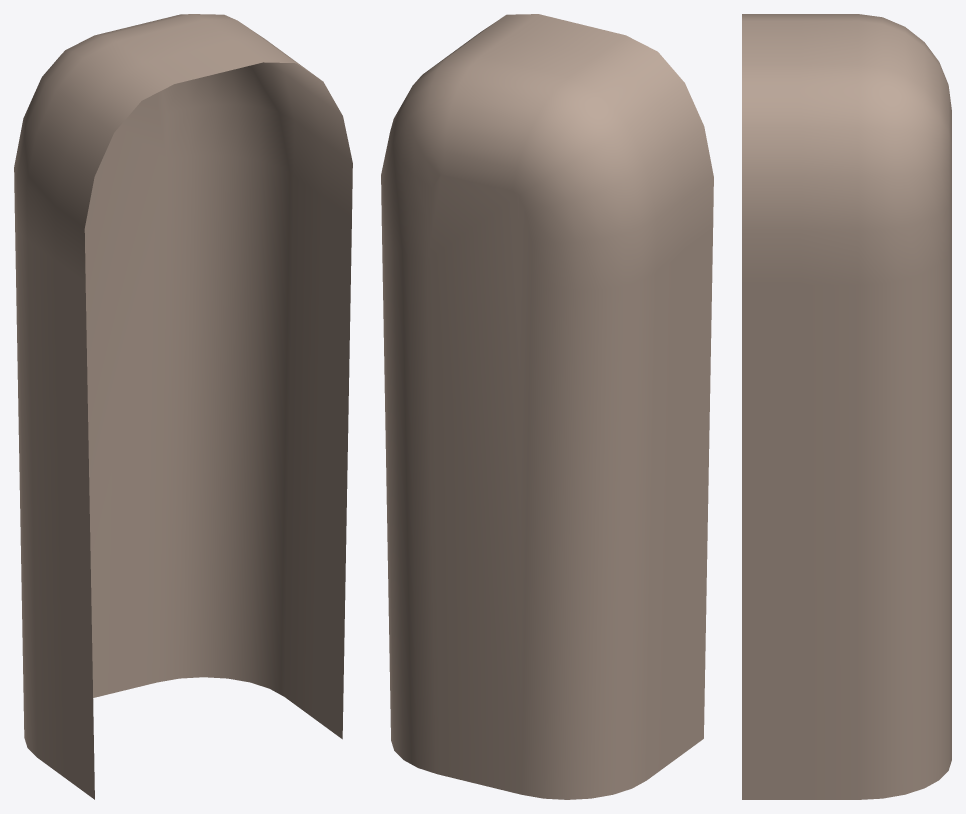
The model's file is conveyor_edge_cap.glb.
The picture shows the model from 3 angles, left to right: view 1: azimuth 30°, elevation 25°; view 2: azimuth 150°, elevation 25°; view 3: azimuth 270°, elevation 25°; orthographic projection.
Parts seen in each view (by area): view 1: RoadB; view 2: RoadB; view 3: RoadB.
Part boxes in pixels (x1,y1,x2,y2): RoadB: (14,14,352,799); RoadB: (381,14,713,799); RoadB: (742,14,951,799).
Bounding box in the file's own units: 0.3 × 0.7446 × 0.2031.
